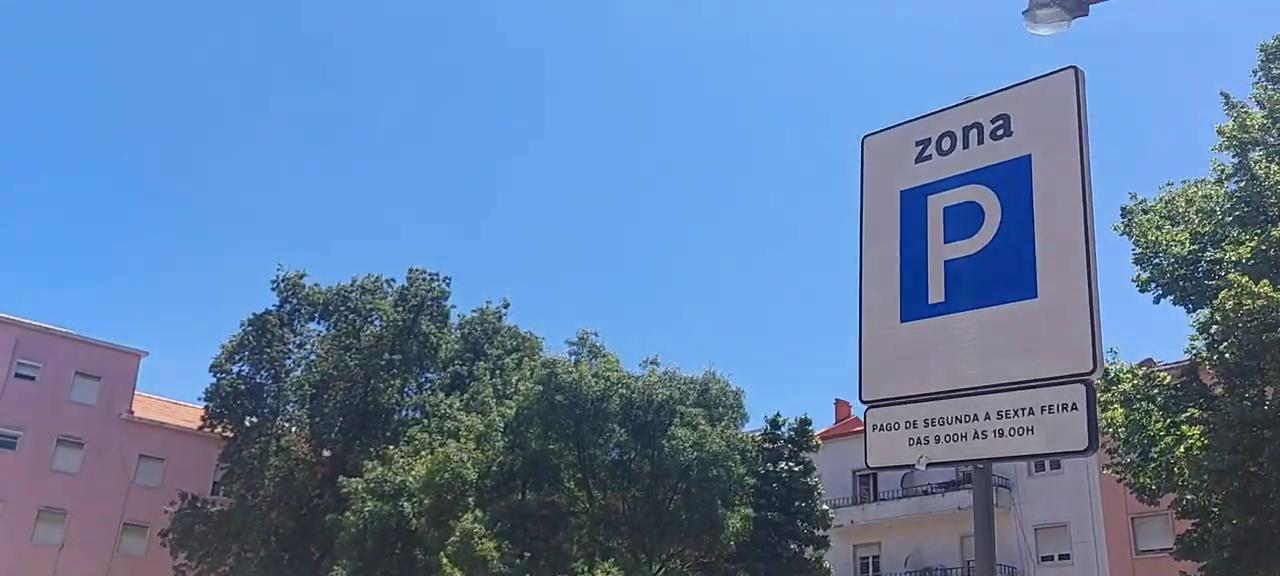Estacionamento autorizado: (833, 64, 1114, 403)
